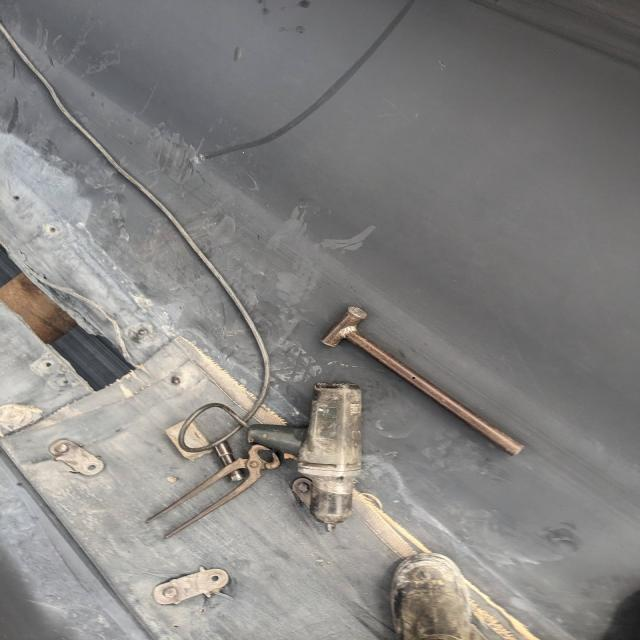Hole: (0, 236, 137, 397)
